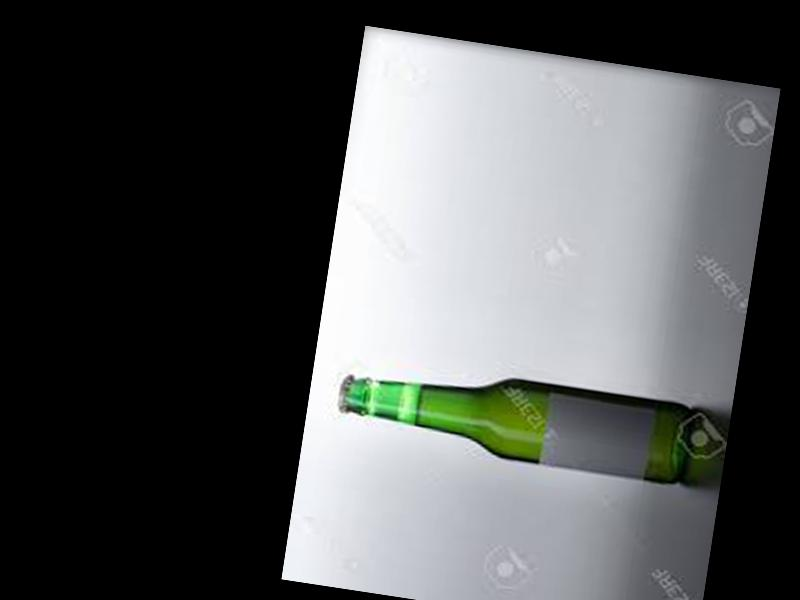Beer: (333, 352, 694, 487)
